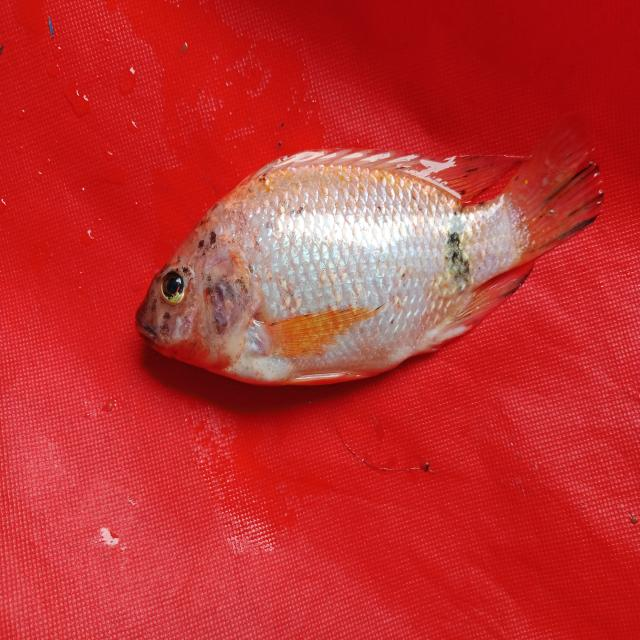ikan: (115, 122, 622, 404)
